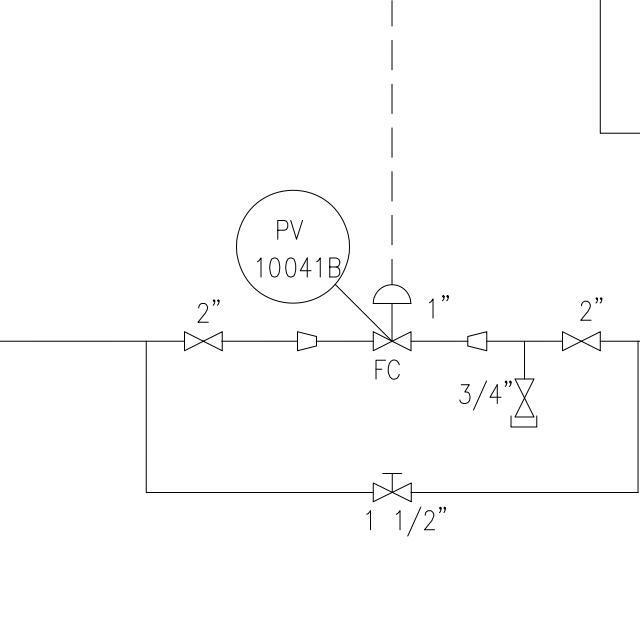EC: (507, 351, 542, 431)
FC: (367, 285, 416, 359)
GV: (556, 328, 605, 354), (177, 330, 230, 353), (513, 373, 535, 421)
HV: (368, 466, 417, 505)
SP: (459, 328, 493, 353), (292, 330, 322, 356)
